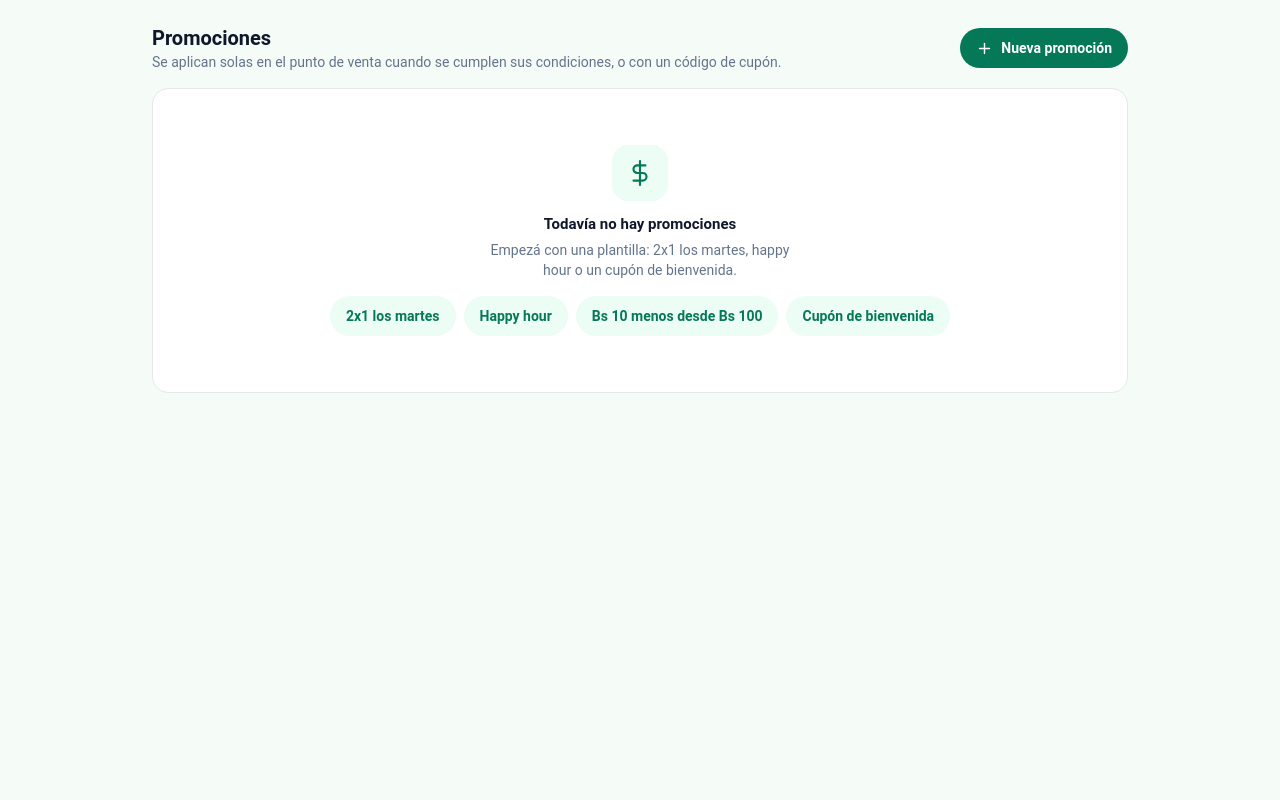
Test case: Promociones › una plantilla precarga el editor y guarda lo que manda el formulario
The width and height of the screenshot is (1280, 800).
Click the button "Happy hour" at (516, 316), box 464,296 -> 568,336
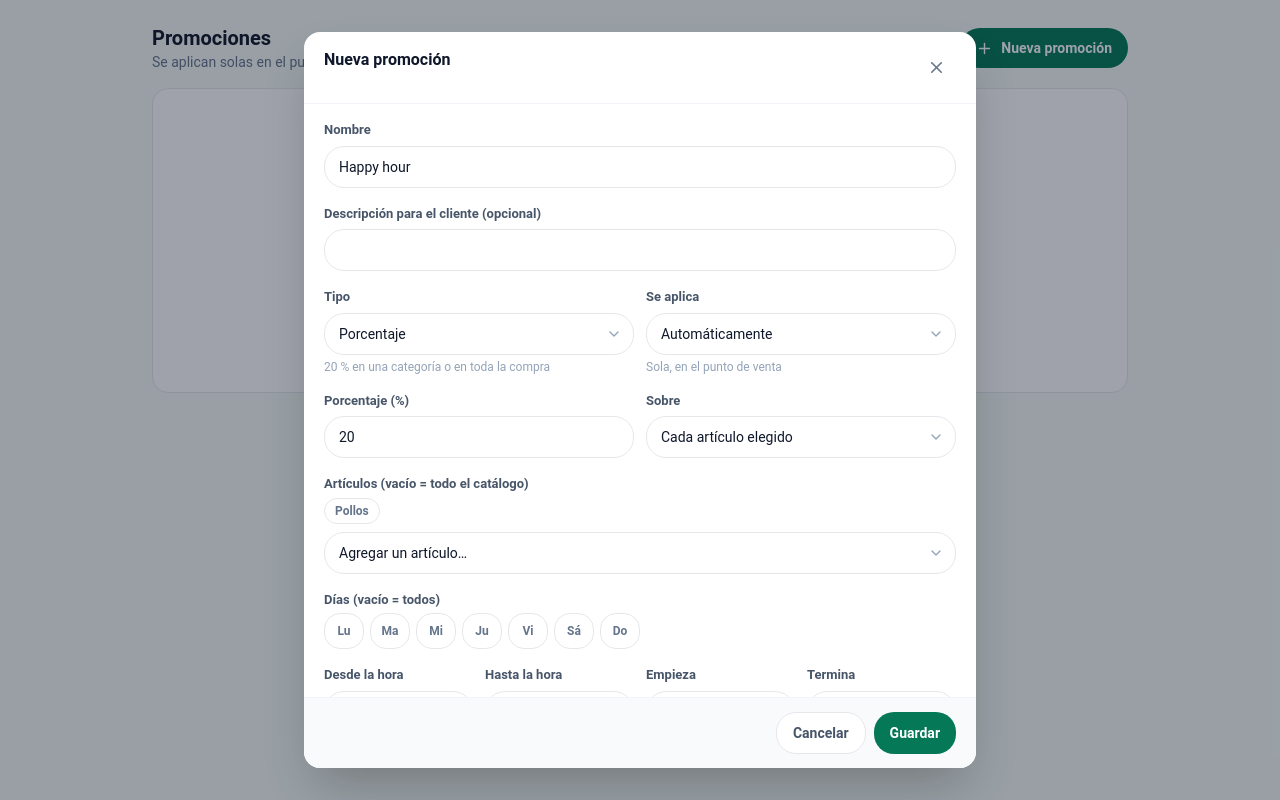
Expected: the field showing "Happy hour" is shown, 324,146 -> 956,188
Click the button "Guardar" at (915, 733), box 874,712 -> 956,754
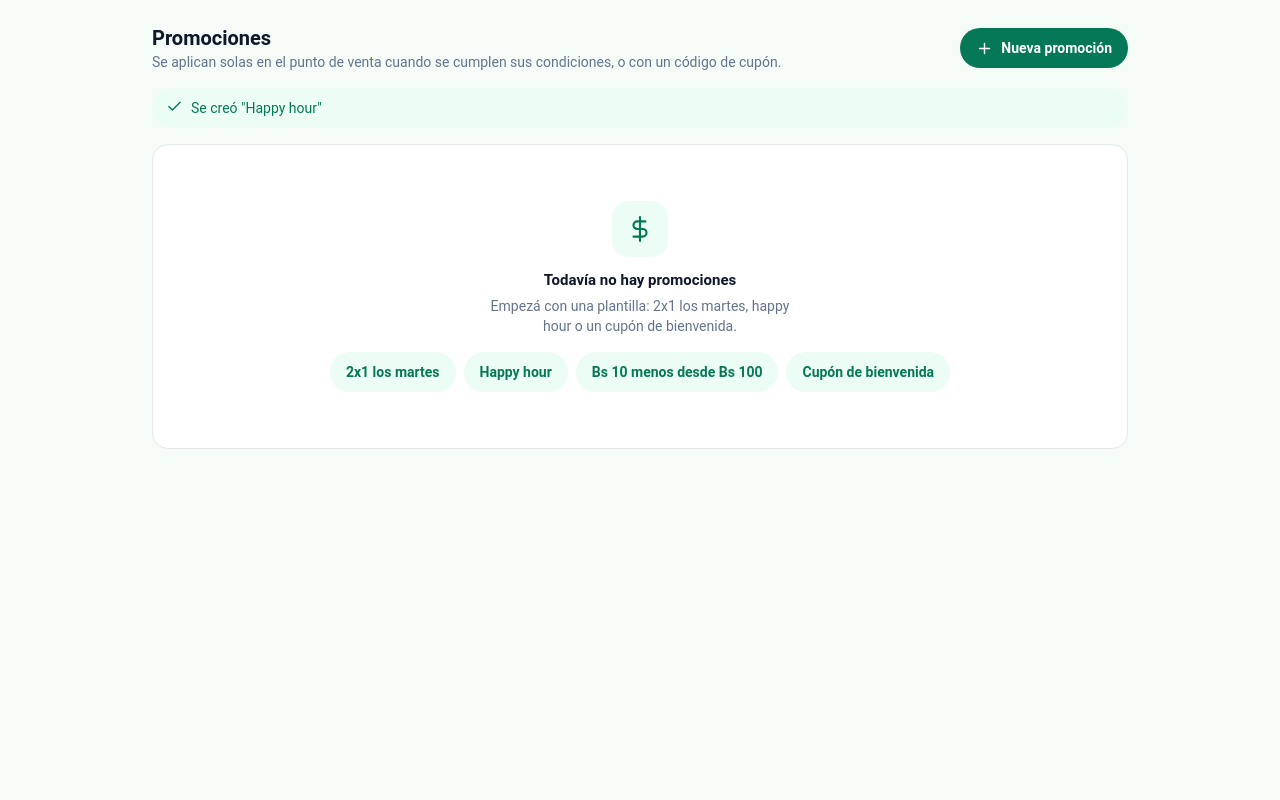
Expected: the text "Se creó \"Happy hour\"" is shown, 191,98 -> 322,118
